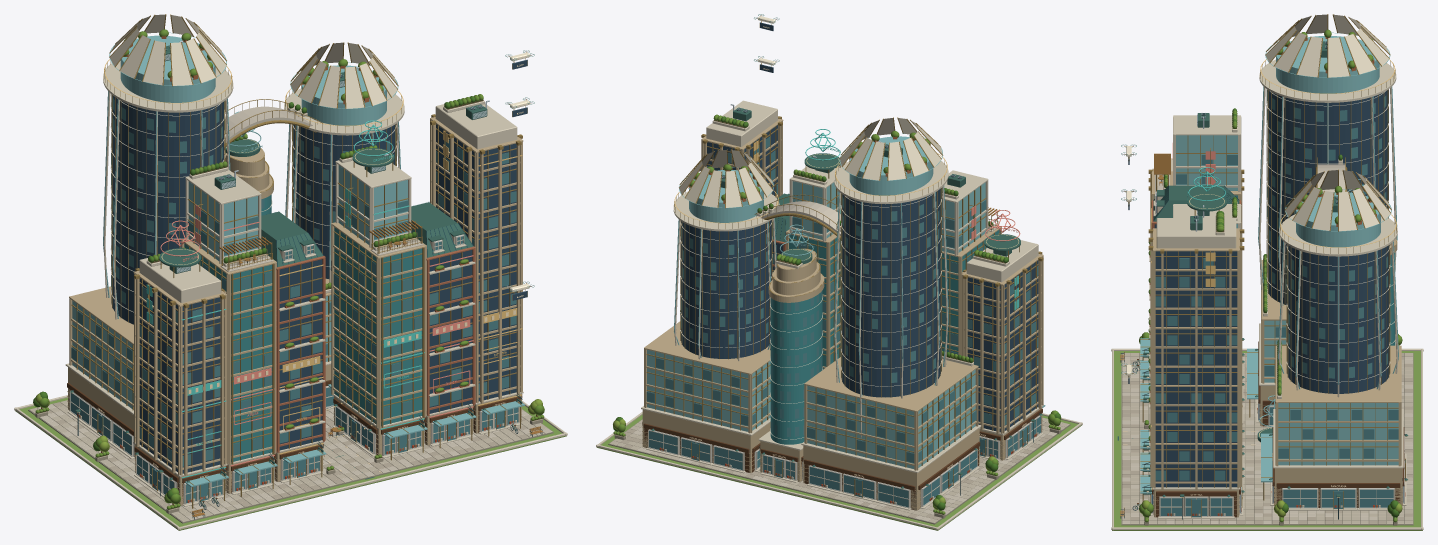
The model's file is level-10.glb.
The picture shows the model from 3 angles, left to right: view 1: azimuth 30°, elevation 25°; view 2: azimuth 150°, elevation 25°; view 3: azimuth 270°, elevation 25°; orthographic projection. The views are drawn at different scales.
Visible parts, largest first — view 1: finance_level_10_geometry, crown_ribbon_glass_finance_mint, metropolitan_sign_lighting_metro_jade, metropolitan_sign_lighting_metro_coral, metropolitan_sign_lighting_metro_gold; view 2: finance_level_10_geometry, crown_ribbon_glass_finance_mint; view 3: finance_level_10_geometry, crown_ribbon_glass_finance_mint.
Part boxes in pixels (x1=…): finance_level_10_geometry: x1=14, y1=14, x2=567, y2=530; crown_ribbon_glass_finance_mint: x1=103, y1=32, x2=400, y2=318; metropolitan_sign_lighting_metro_jade: x1=146, y1=188, x2=424, y2=478; metropolitan_sign_lighting_metro_coral: x1=195, y1=204, x2=473, y2=466; metropolitan_sign_lighting_metro_gold: x1=279, y1=130, x2=522, y2=454; finance_level_10_geometry: x1=596, y1=100, x2=1082, y2=530; crown_ribbon_glass_finance_mint: x1=674, y1=133, x2=948, y2=397; finance_level_10_geometry: x1=1111, y1=14, x2=1423, y2=530; crown_ribbon_glass_finance_mint: x1=1258, y1=32, x2=1398, y2=389.
Bounding box in the file's own units: 60 × 58.05 × 44.
